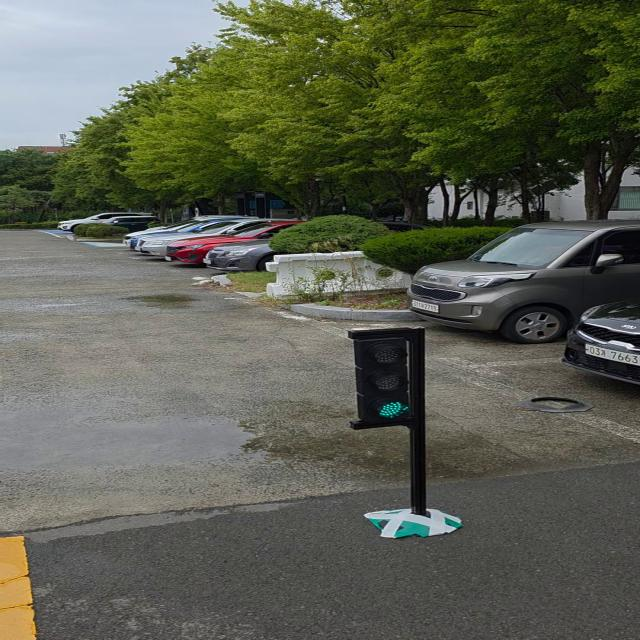green: (356, 331, 420, 427)
